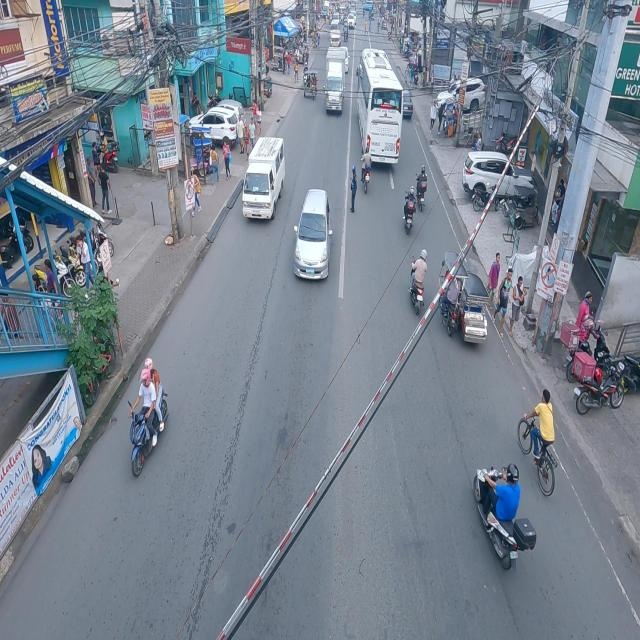Bus: (360, 52, 402, 172)
Motorcycle: (130, 352, 172, 479)
Truck: (324, 49, 347, 113)
Van: (242, 129, 288, 228)
